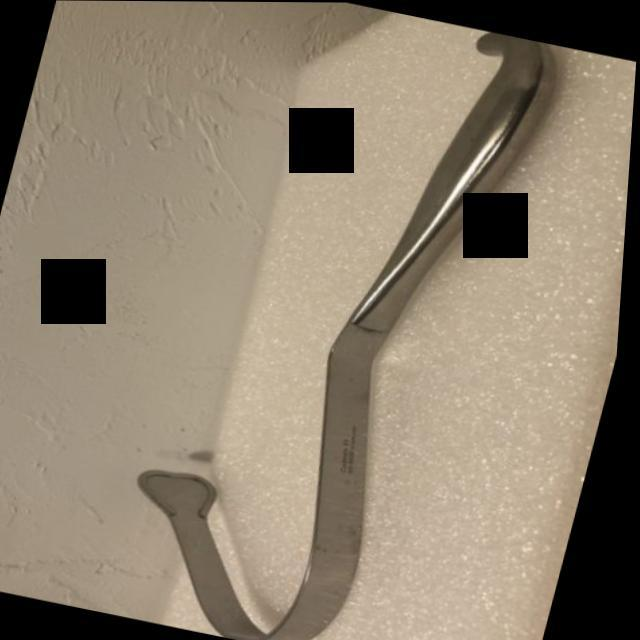Hrrington retractor: (103, 1, 575, 640)
